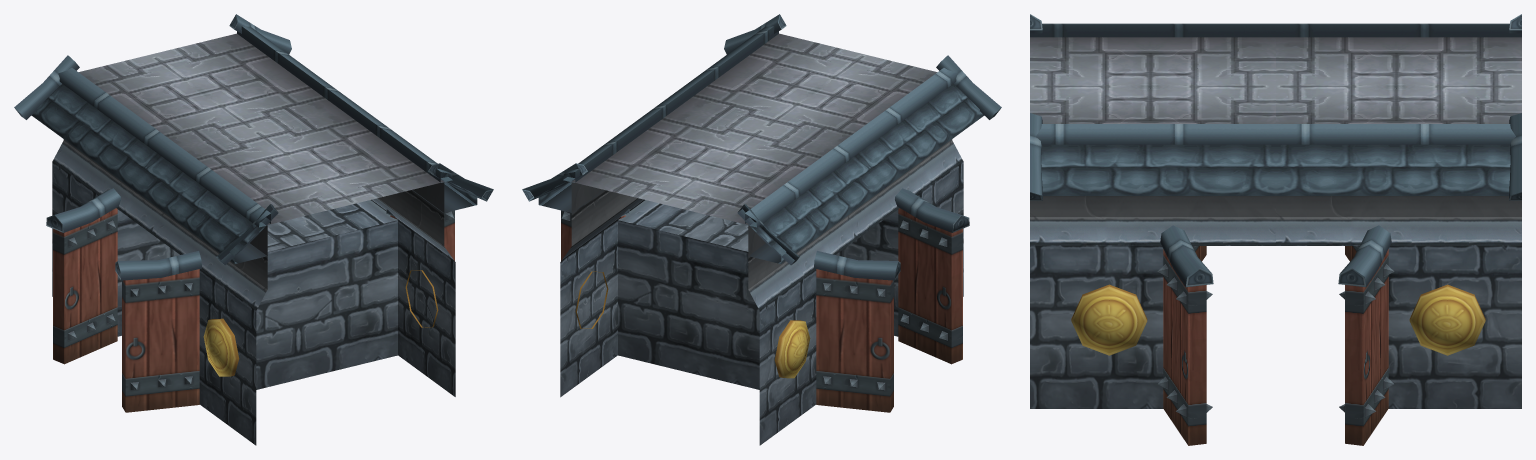
The model's file is castle_wall_straight_03.fbx.
3 views of the same model, side by side, from view 1: azimuth 30°, elevation 25°; view 2: azimuth 150°, elevation 25°; view 3: azimuth 270°, elevation 25° (orthographic). The views are drawn at different scales.
Parts seen in each view (by area): view 1: castle_wall_straight_03; view 2: castle_wall_straight_03; view 3: castle_wall_straight_03.
Boxes of the visible parts, <box> form: castle_wall_straight_03: <box>14,14,493,445</box>; castle_wall_straight_03: <box>522,14,1001,445</box>; castle_wall_straight_03: <box>1030,14,1521,445</box>.
Size of the model in its own units: 6.37 by 4.25 by 6.61.
1 material, 1 textured.
